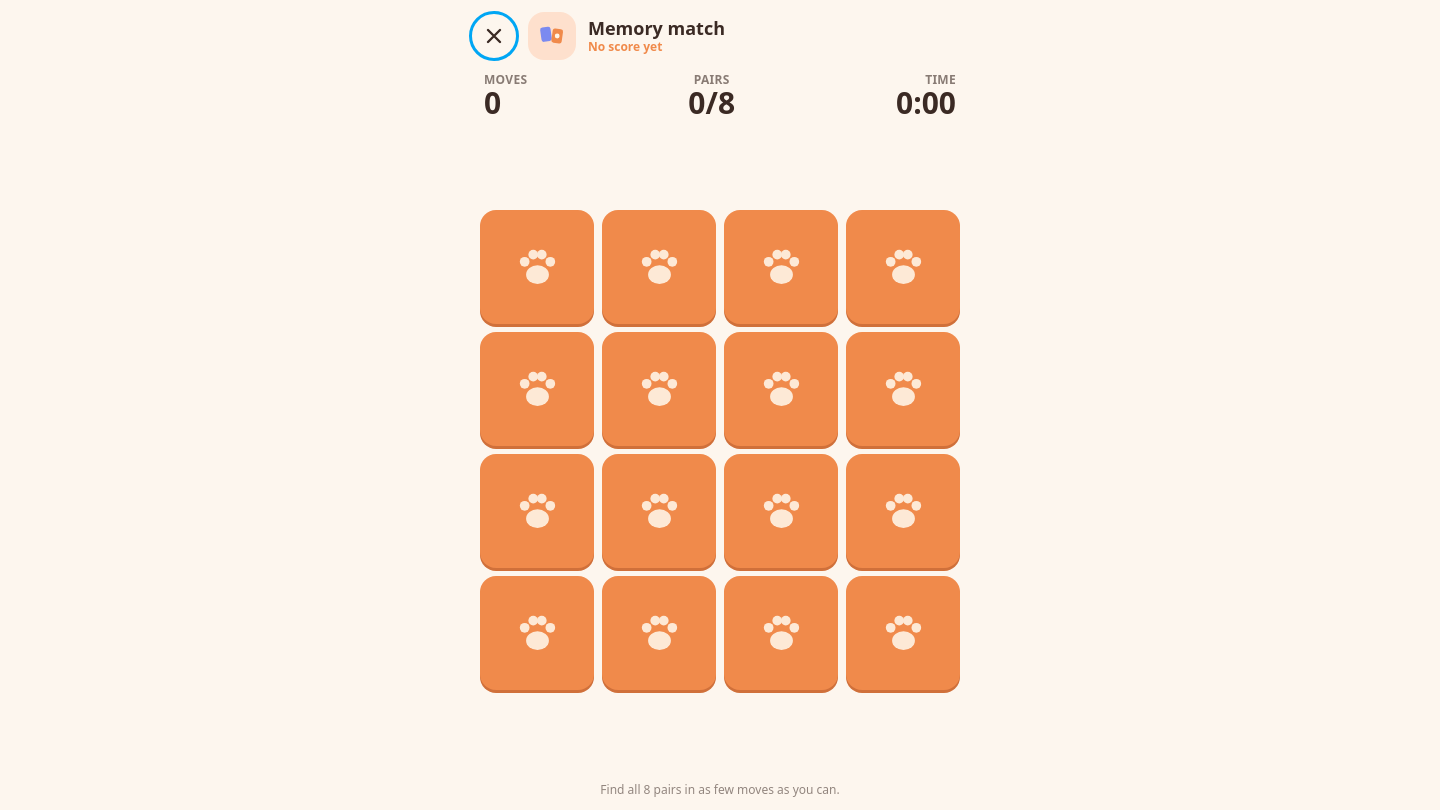
Test: Memory match › turns a mismatch back over after a moment
Click the button named "Card 8, hidden" at (903, 389), box [846,332,960,446]
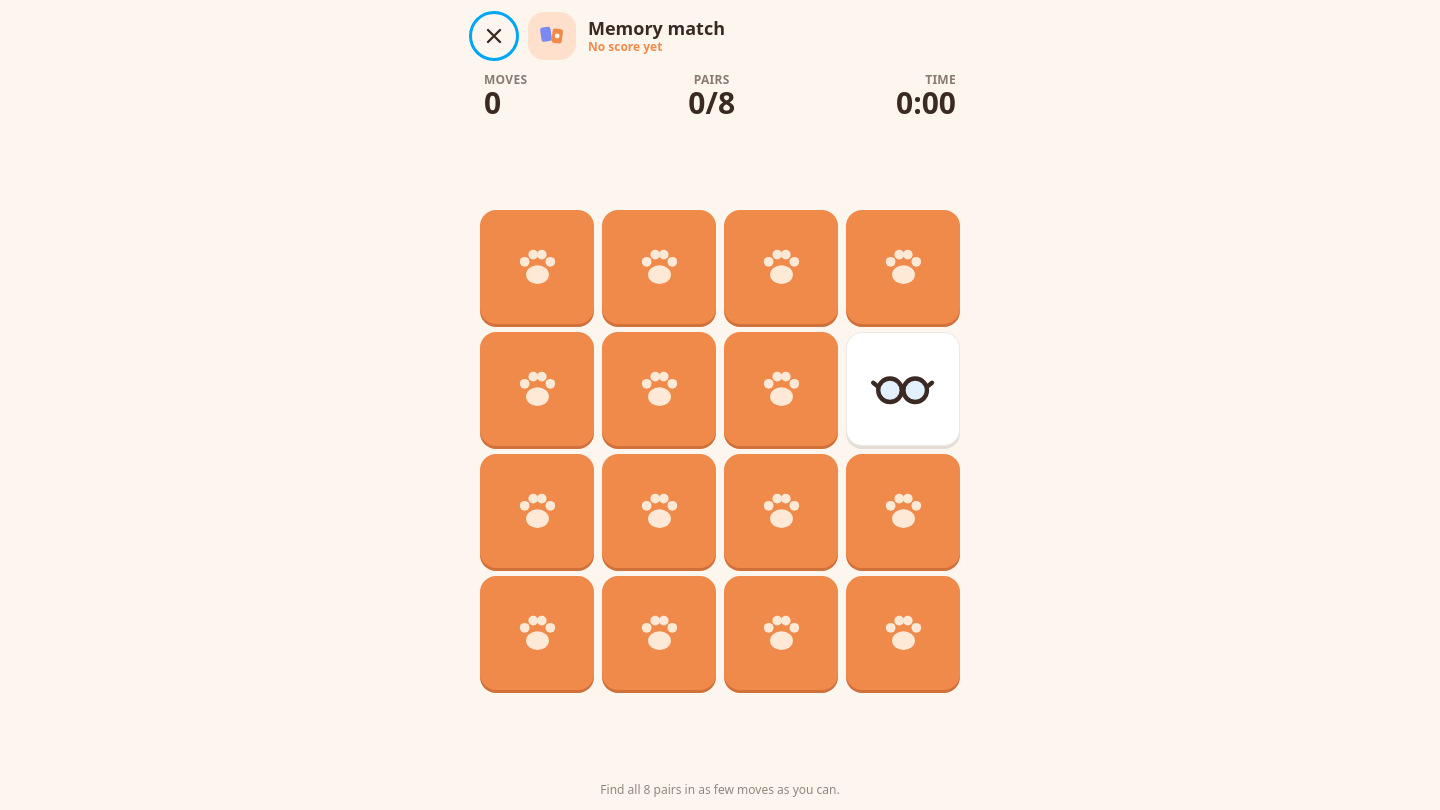
Click the button named "Card 1, hidden" at (537, 267), box [480,210,594,324]
Wait 950 ms
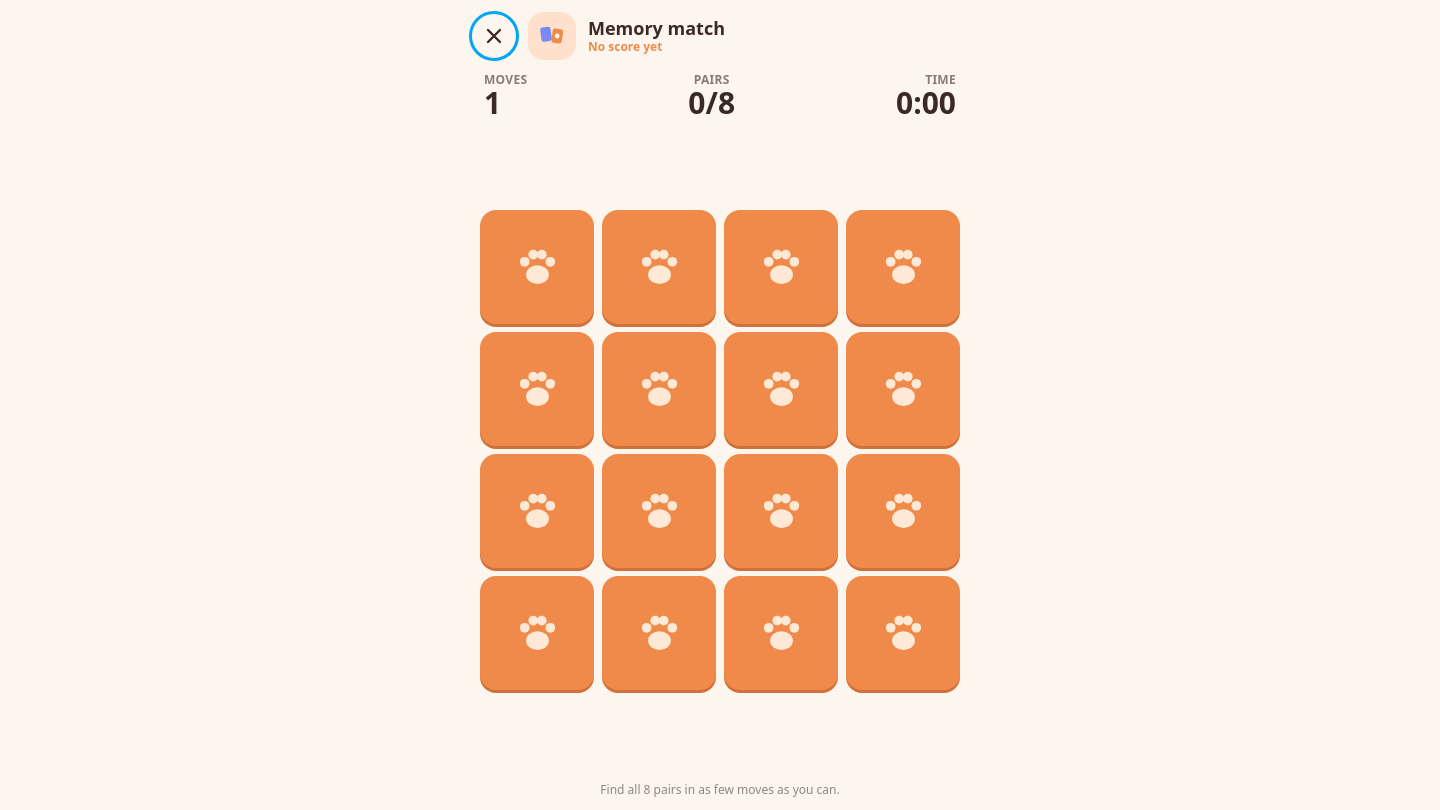
Check: the text with test id "memory-moves" reads "1", box [484,82,501,123]
